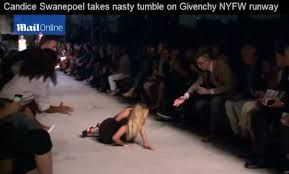10+: (1, 31, 289, 173)
down: (83, 100, 157, 152)
